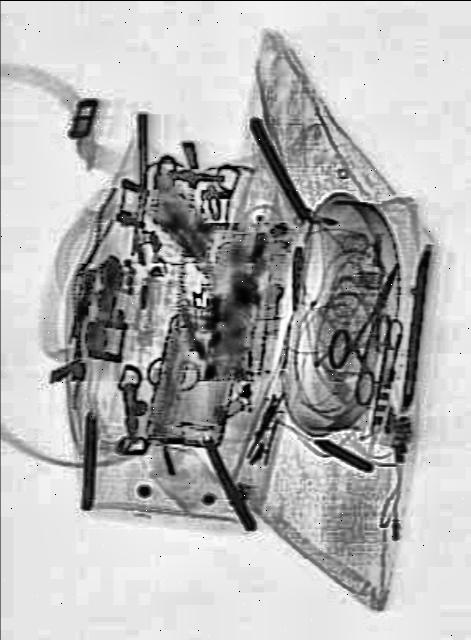Scissors: (315, 248, 421, 408), (354, 308, 402, 440)
